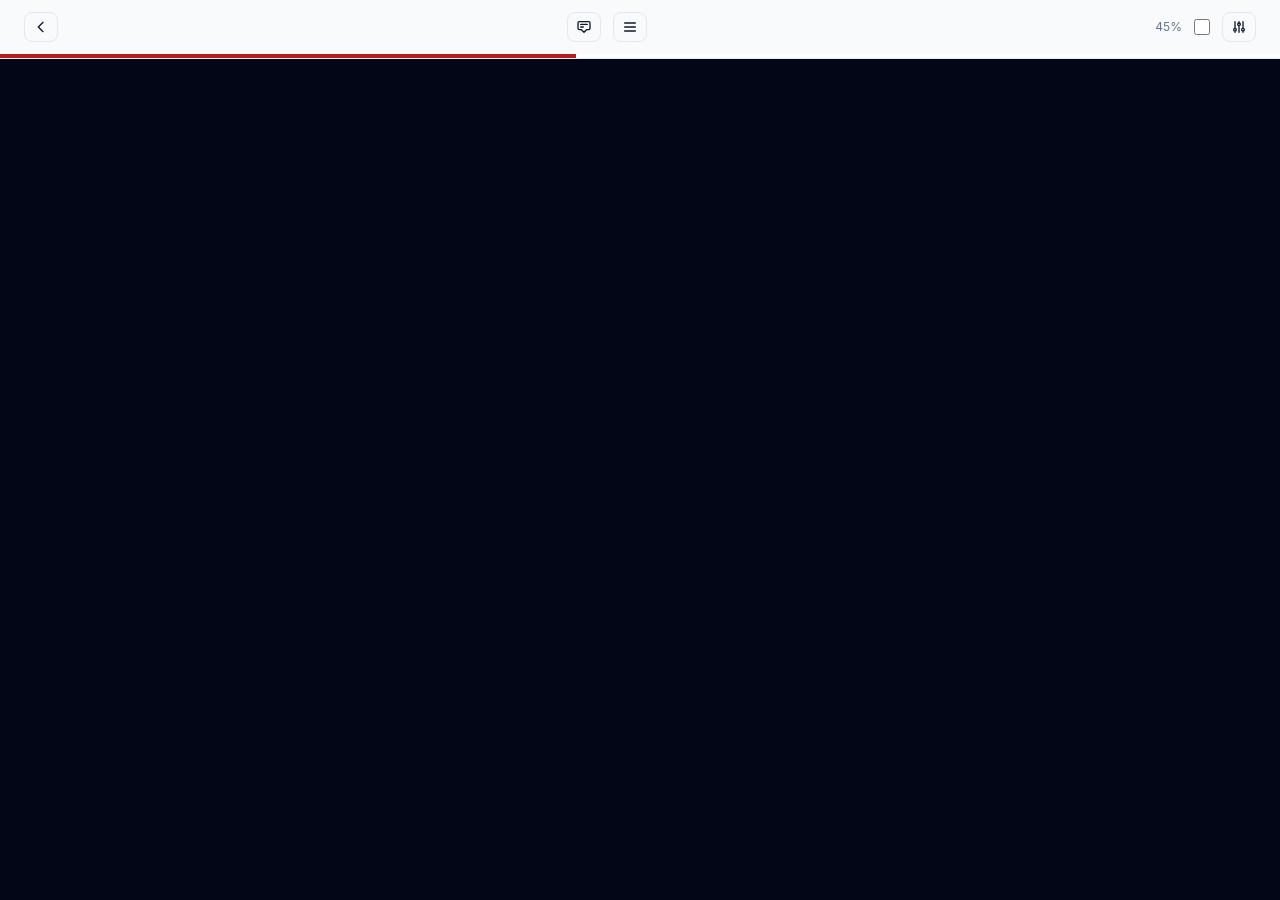
Test: ReaderToolbar › opens section menu when section button is clicked
The width and height of the screenshot is (1280, 900).
Click the button named "Open section menu" at coordinates (630, 27), box [613,12,647,42]
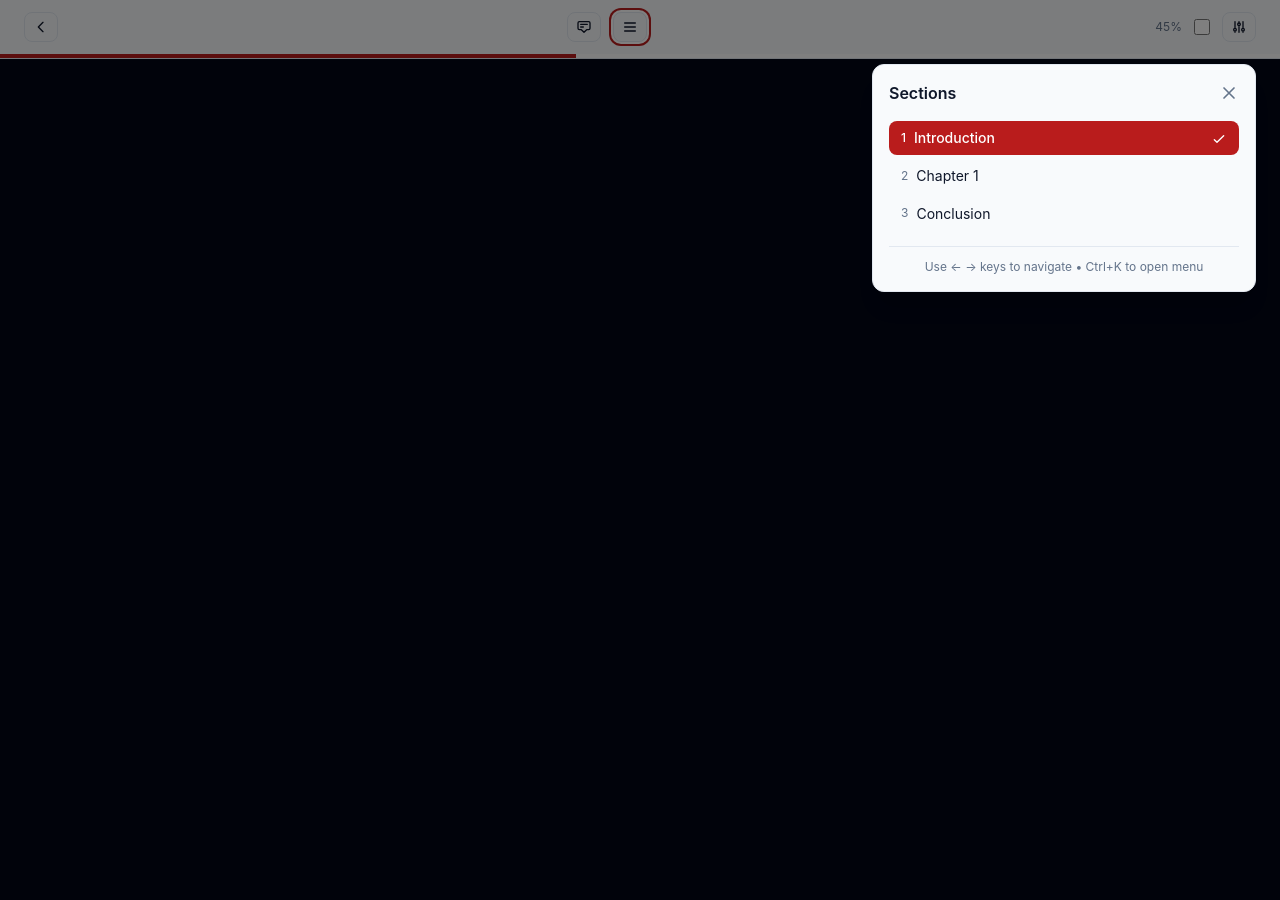
Expected: the heading "Sections" is shown, [889,81,956,105]
Expected: the dialog is shown, [872,64,1256,292]
